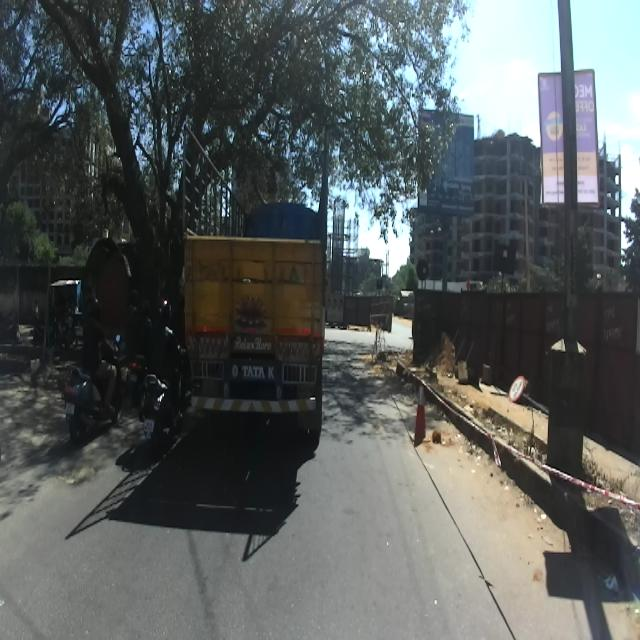motorcycle ahead at: (62, 365, 120, 442)
truck ahead at: (176, 118, 327, 430)
